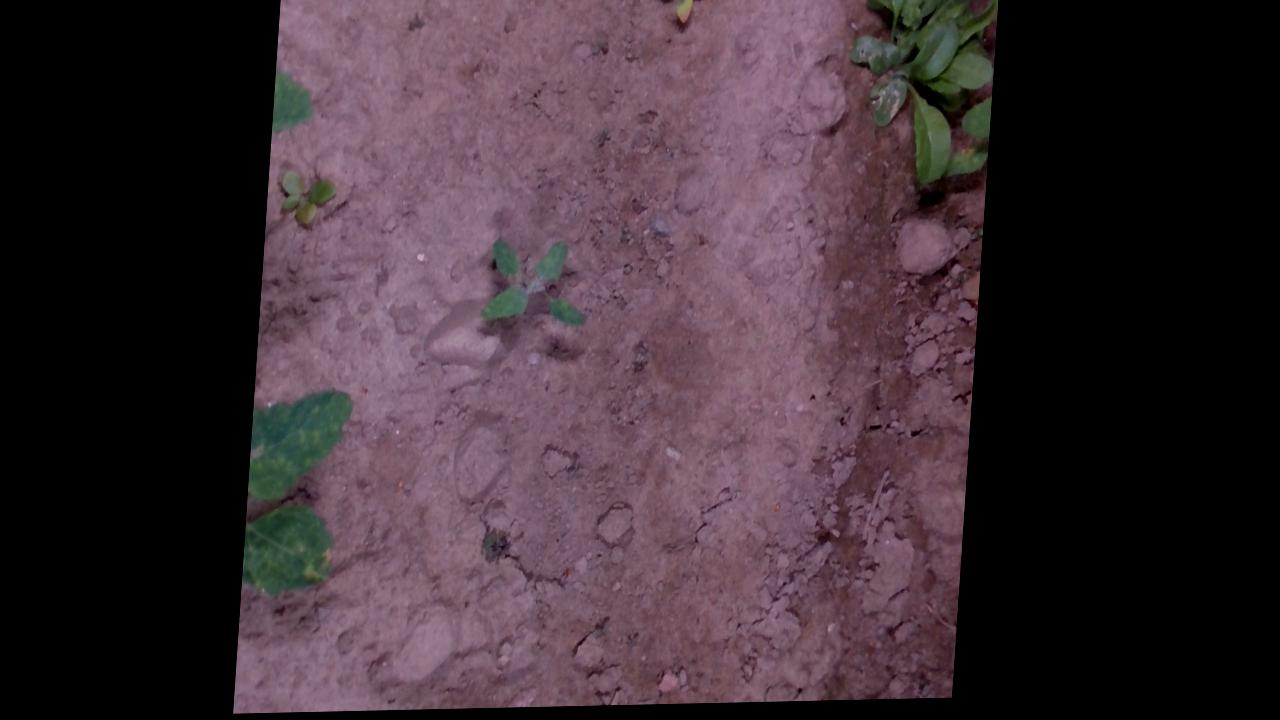weed: (650, 0, 717, 25)
